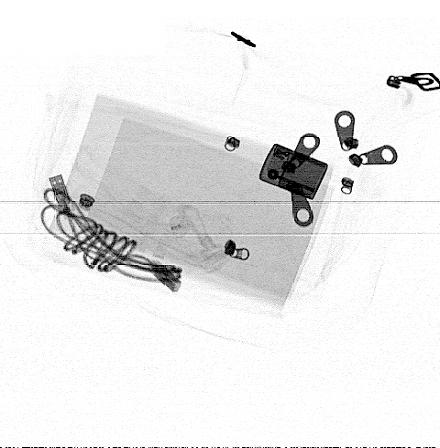Lighter: (259, 143, 329, 201)
